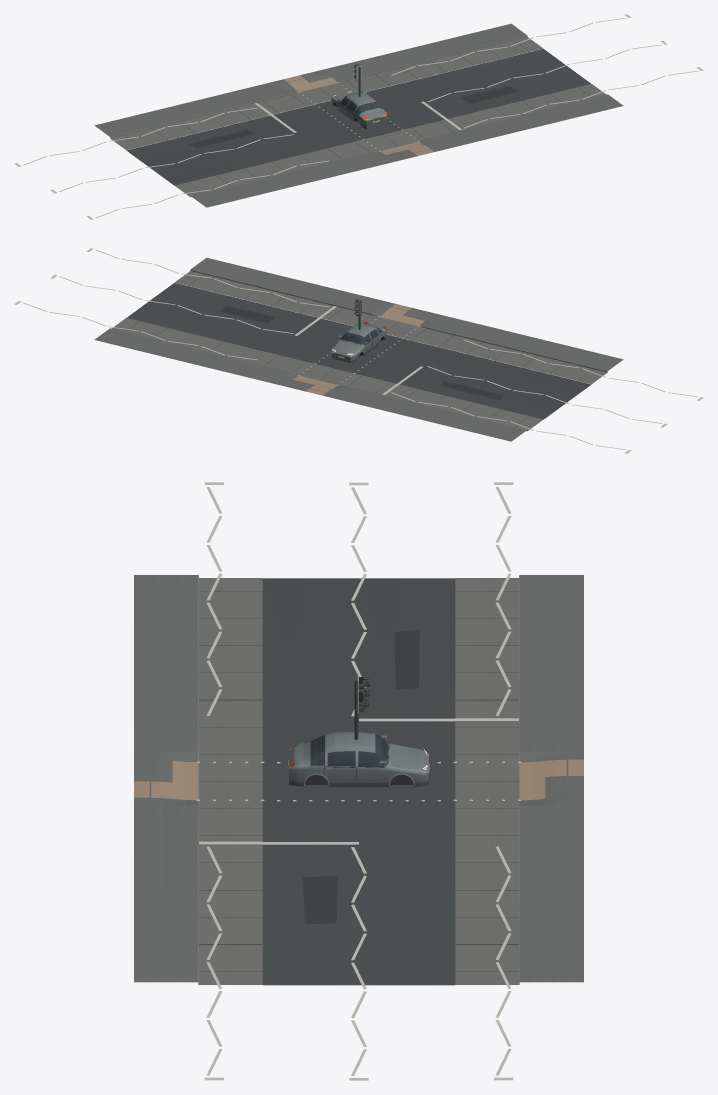
File: street-pilot.glb
The picture shows the model from 3 angles, top to bottom: view 1: azimuth 30°, elevation 25°; view 2: azimuth 150°, elevation 25°; view 3: azimuth 270°, elevation 25°; orthographic projection. The views are drawn at different scales.
Visible parts, largest first — view 1: street_pilot_ground, street_pilot_setts, street_pilot_pavement, street_pilot_markings, street_pilot_car_body, street_pilot_tactile, street_pilot_repairs, street_pilot_kerbs; view 2: street_pilot_ground, street_pilot_pavement, street_pilot_setts, street_pilot_markings, street_pilot_car_body, street_pilot_tactile, street_pilot_repairs, street_pilot_kerbs; view 3: street_pilot_ground, street_pilot_setts, street_pilot_pavement, street_pilot_markings, street_pilot_car_body, street_pilot_tactile, street_pilot_repairs.
Part boxes in pixels (left/top/right/bottom): street_pilot_ground: left=126, top=48, right=590, bottom=185; street_pilot_setts: left=111, top=37, right=605, bottom=196; street_pilot_pavement: left=94, top=23, right=623, bottom=207; street_pilot_markings: left=14, top=14, right=703, bottom=219; street_pilot_car_body: left=331, top=91, right=386, bottom=129; street_pilot_tactile: left=283, top=75, right=433, bottom=155; street_pilot_repairs: left=188, top=86, right=518, bottom=147; street_pilot_kerbs: left=110, top=35, right=527, bottom=196; street_pilot_ground: left=127, top=282, right=591, bottom=419; street_pilot_pavement: left=94, top=257, right=623, bottom=441; street_pilot_setts: left=112, top=271, right=606, bottom=430; street_pilot_markings: left=14, top=248, right=703, bottom=453; street_pilot_car_body: left=331, top=322, right=386, bottom=362; street_pilot_tactile: left=293, top=304, right=424, bottom=395; street_pilot_repairs: left=220, top=305, right=503, bottom=400; street_pilot_kerbs: left=190, top=269, right=607, bottom=430; street_pilot_ground: left=262, top=578, right=455, bottom=985; street_pilot_setts: left=198, top=578, right=519, bottom=984; street_pilot_pavement: left=134, top=575, right=583, bottom=982; street_pilot_markings: left=196, top=482, right=521, bottom=1080; street_pilot_car_body: left=288, top=732, right=429, bottom=786; street_pilot_tactile: left=134, top=759, right=583, bottom=800; street_pilot_repairs: left=302, top=630, right=419, bottom=924.
Bounding box in the file's own units: 44.07 × 3.88 × 14.
Materials: 3 (3 with a texture image).
